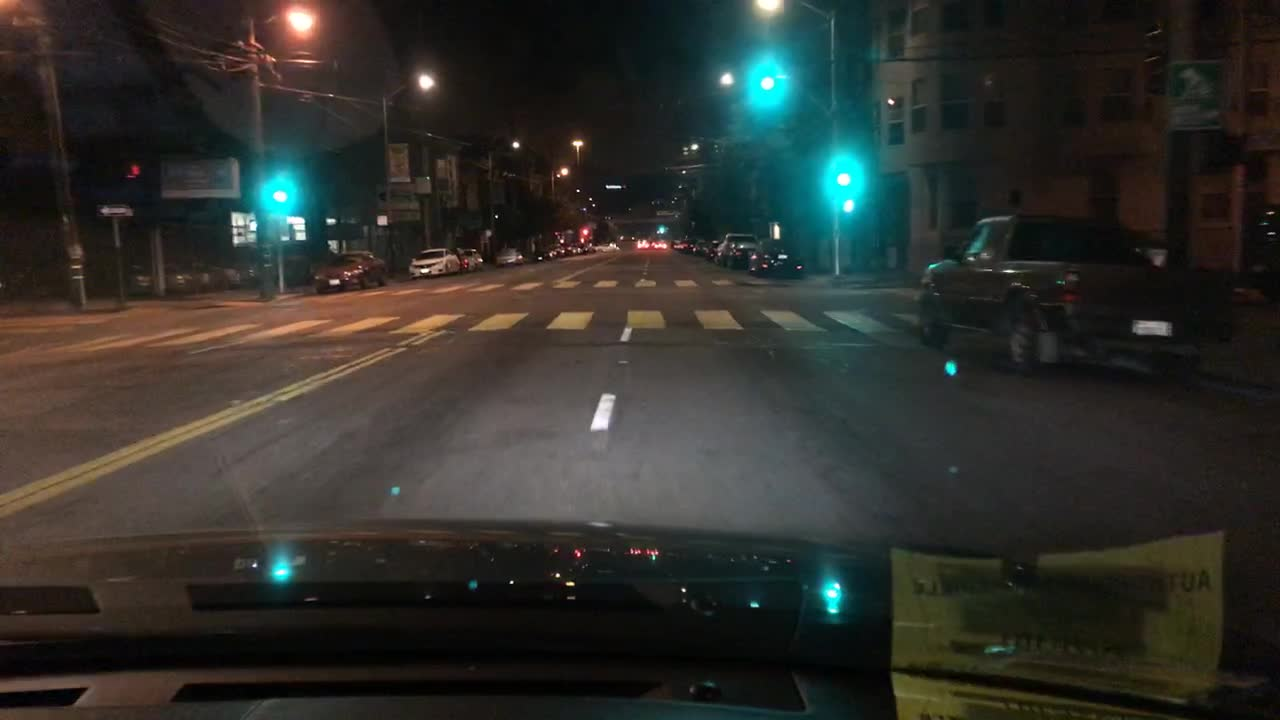car: (915, 210, 1188, 383), (1237, 198, 1277, 308), (310, 248, 389, 297), (743, 239, 806, 278), (407, 245, 462, 279), (713, 232, 758, 267), (494, 244, 528, 267), (534, 242, 562, 260), (461, 248, 484, 267), (672, 235, 692, 251), (690, 238, 710, 254), (706, 238, 722, 258), (594, 238, 619, 249), (633, 236, 649, 248), (651, 239, 668, 249), (566, 244, 582, 254)
traffic light: (265, 184, 288, 208), (754, 71, 777, 95), (123, 161, 145, 179), (835, 169, 853, 187), (843, 198, 853, 217)
traffic sign: (1163, 57, 1228, 126), (96, 203, 136, 216)
